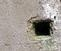Spalling: (31, 18, 54, 37)
